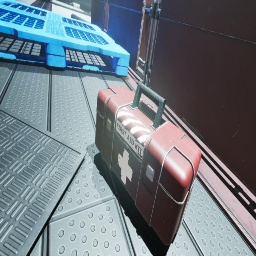0: (70, 2, 80, 9)
FirstAidBox ,: (95, 81, 201, 246)
